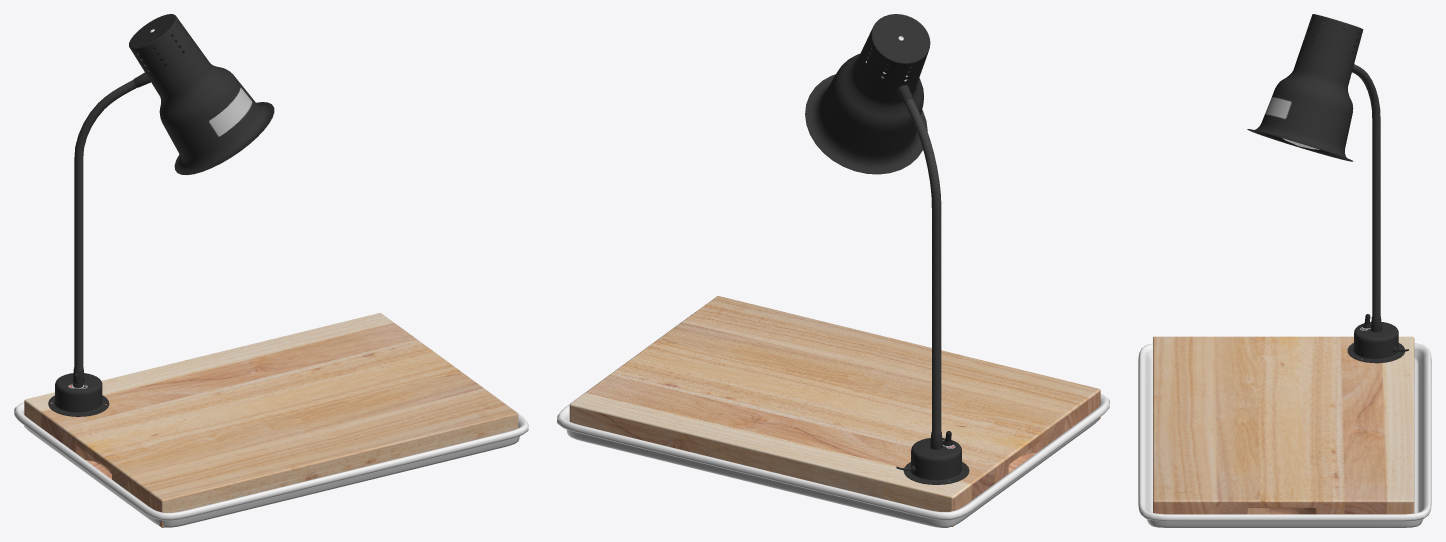
The picture shows the model from 3 angles, left to right: view 1: azimuth 30°, elevation 25°; view 2: azimuth 150°, elevation 25°; view 3: azimuth 270°, elevation 25°; orthographic projection. The views are drawn at different scales.
Visible parts, largest first — view 1: SKU_164WCB1624, 177HL24BK, 407BUNFULL; view 2: SKU_164WCB1624, 177HL24BK, 407BUNFULL; view 3: SKU_164WCB1624, 177HL24BK, 407BUNFULL.
Boxes of the visible parts, <box> form: SKU_164WCB1624: <box>24,313,518,527</box>; 177HL24BK: <box>48,14,274,416</box>; 407BUNFULL: <box>14,326,528,527</box>; SKU_164WCB1624: <box>569,296,1100,526</box>; 177HL24BK: <box>805,14,969,484</box>; 407BUNFULL: <box>557,311,1109,527</box>; SKU_164WCB1624: <box>1153,336,1414,526</box>; 177HL24BK: <box>1247,14,1408,363</box>; 407BUNFULL: <box>1138,343,1431,527</box>.
Bounding box in the file's own units: 63.96 × 67.3 × 45.24.
Materials: 4 (4 with a texture image).
